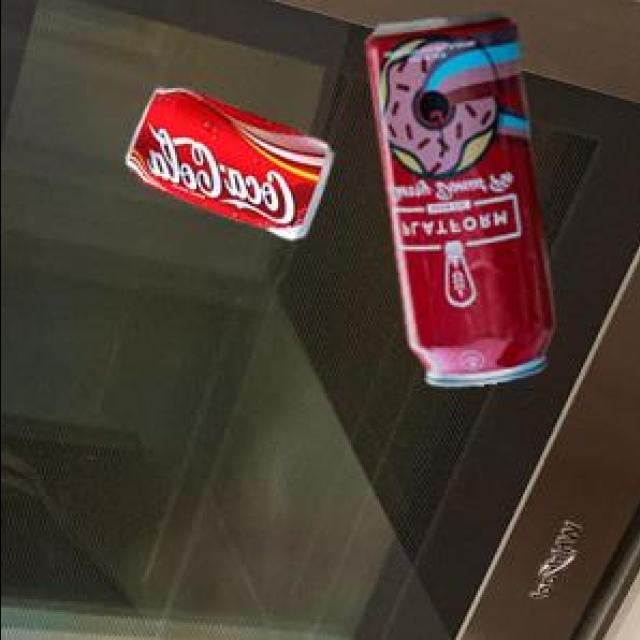logam: (362, 12, 551, 383), (123, 85, 330, 235)
